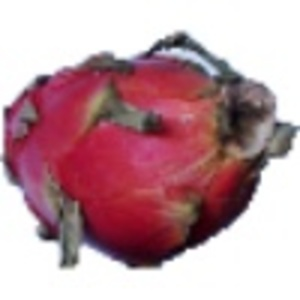pitaia: (1, 30, 300, 271)
